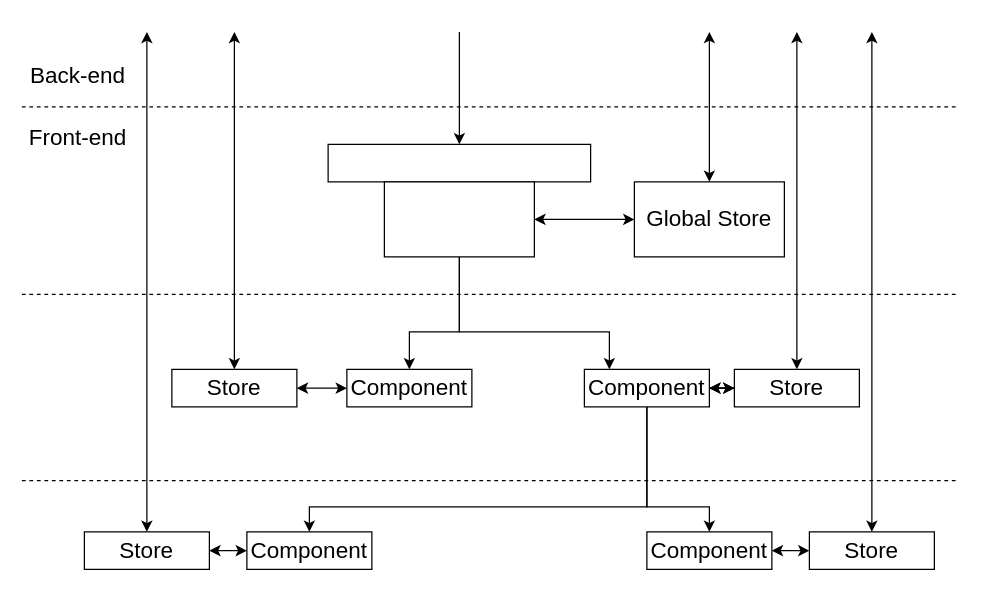
The diagram is 983 pixels wide and 591 high, and some of its shapes have lost their labels. The centre of each missing label's shape, as x and y in pixels:
Root Component: pixel 458 219
UI: pixel 459 162
